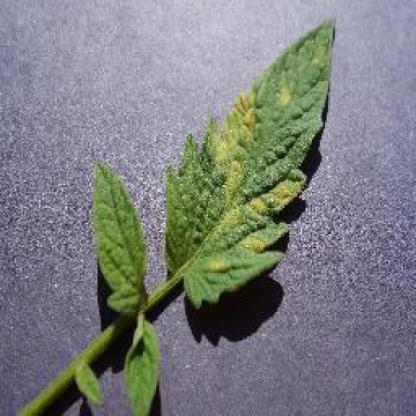Tomato_Leaf_Mold: (165, 20, 338, 304)
